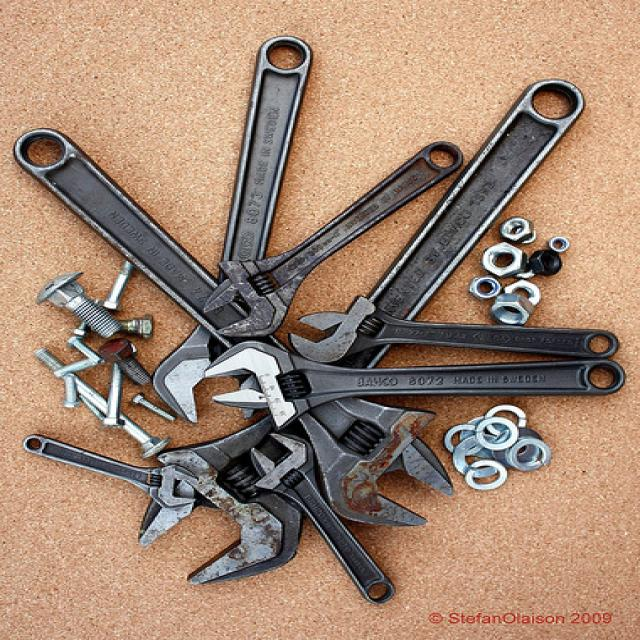wrench: (196, 335, 640, 429)
